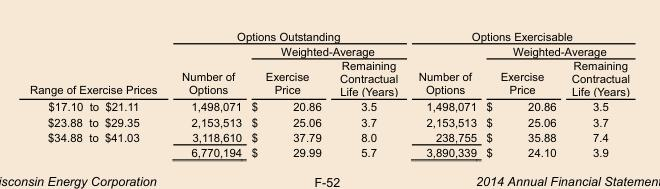table: (28, 29, 628, 158)
table column: (28, 29, 168, 158), (245, 29, 329, 158), (480, 29, 563, 158), (329, 29, 407, 158), (168, 29, 245, 158), (407, 29, 480, 158), (563, 29, 628, 158)
table column header: (28, 29, 628, 98)
table row: (28, 58, 628, 98), (28, 98, 628, 114), (28, 43, 628, 58), (28, 114, 628, 129), (28, 129, 628, 144), (28, 29, 628, 43), (28, 144, 628, 158)
table spanning cell: (28, 29, 168, 98), (168, 43, 245, 98), (407, 43, 480, 98), (168, 29, 407, 43), (407, 29, 628, 43), (245, 43, 407, 58), (480, 43, 628, 58)
